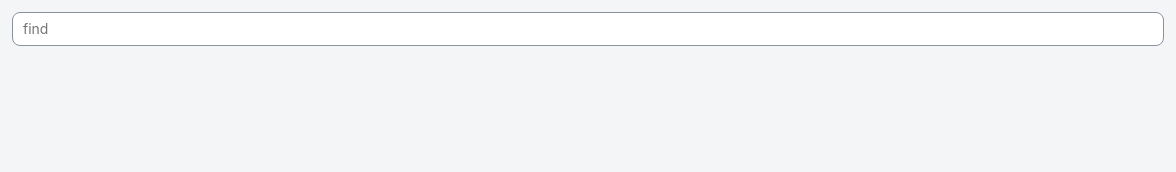
Scenario: SearchBox › shows an X only while there is text, which empties the box and keeps the focus in it
Type "daily" into the search field named "find a run".
click(588, 29); type("daily")  # box [12,12,1164,46]
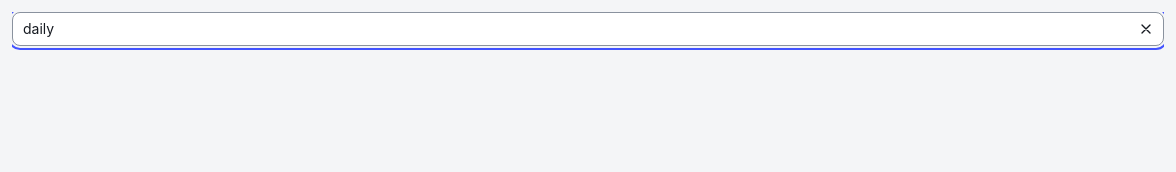
Click the button named "clear the search".
click(1146, 29)  # box [1134,17,1158,41]
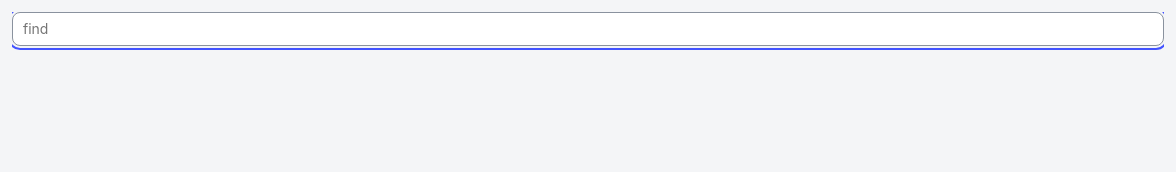
Expected: the search field named "find a run" is empty, [12,12,1164,46]
